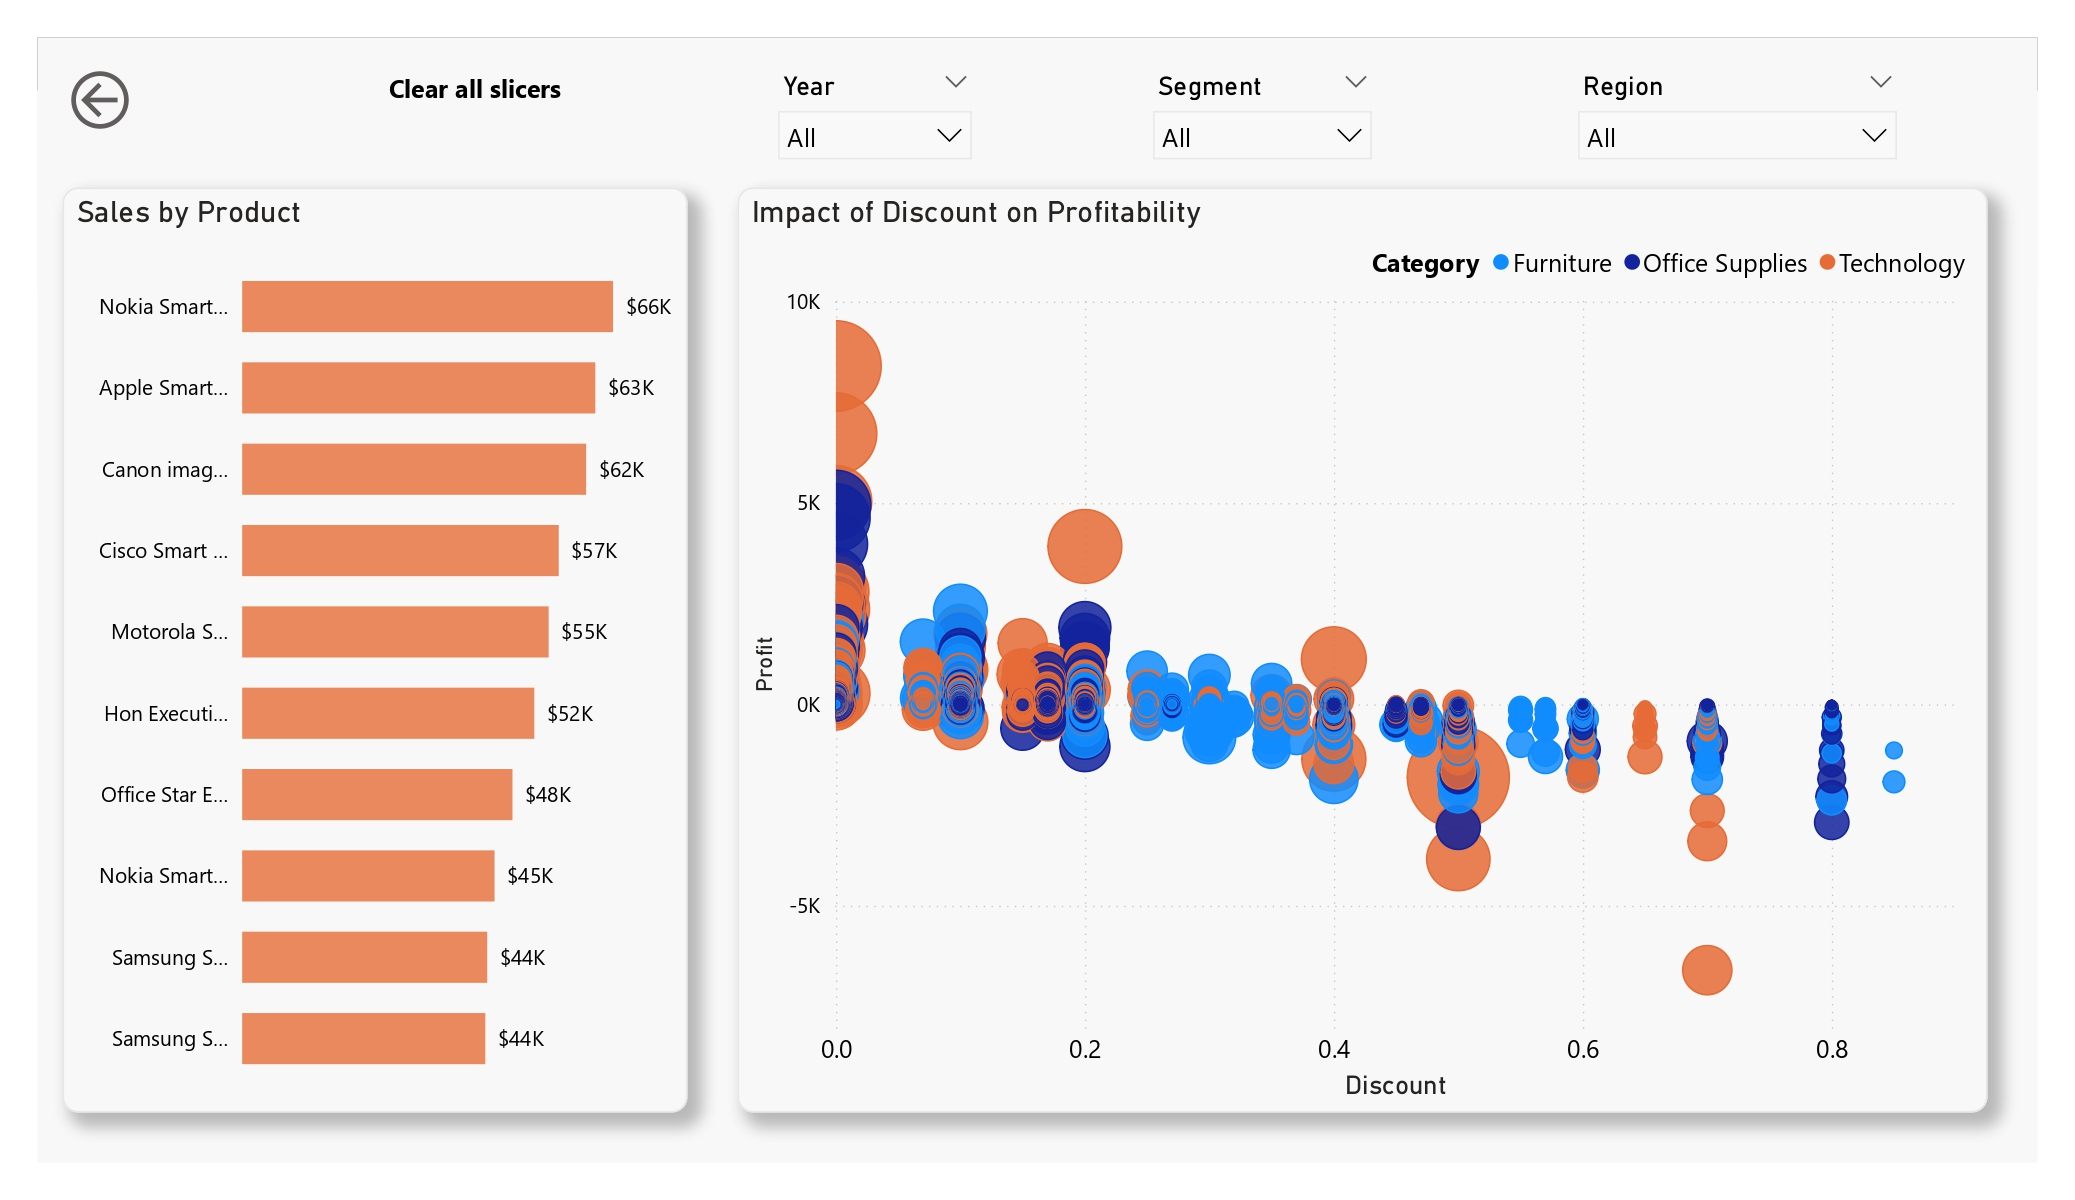

This screenshot's page, from the dashboard's own definition file:
{"tool":"powerbi","page":{"name":"Product Performance","canvas":[1280,720],"ordinal":1},"visuals":[{"type":"barChart","title":"Sales by Product","fields":{"Category":["Orders.Product_Name"],"Y":["MeasuresAll.Total Sales"]},"box":[16,96,400,592],"z":0},{"type":"scatterChart","title":"Impact of Discount on Profitability","fields":{"X":["Orders.Discount"],"Y":["Orders.Profit"],"Size":["Sum(Orders.Sales)"],"Series":["Orders.Category"]},"box":[448,96,800,592],"z":1000},{"type":"slicer","fields":{"Values":["DimDate.Year"]},"box":[464,16,144,80],"z":2000},{"type":"slicer","fields":{"Values":["Orders.Segment"]},"box":[704,16,160,80],"z":3000},{"type":"slicer","fields":{"Values":["Orders.Region"]},"box":[976,16,224,80],"z":4000},{"type":"actionButton","box":[16,16,64,48],"z":5000},{"type":"actionButton","box":[208,16,144,32],"z":5001}]}

Visuals, with their boxes on the page's 1280x720 design canvas (x1, y1, x2, y2). These are canvas units, not pixel positions in the 2075x1200 screenshot, which may show the page scaled, cropped or inside an application window:
"Sales by Product" barChart: bbox=[16, 96, 416, 688]
"Impact of Discount on Profitability" scatterChart: bbox=[448, 96, 1248, 688]
slicer - DimDate.Year: bbox=[464, 16, 608, 96]
slicer - Orders.Segment: bbox=[704, 16, 864, 96]
slicer - Orders.Region: bbox=[976, 16, 1200, 96]
actionButton: bbox=[16, 16, 80, 64]
actionButton: bbox=[208, 16, 352, 48]
